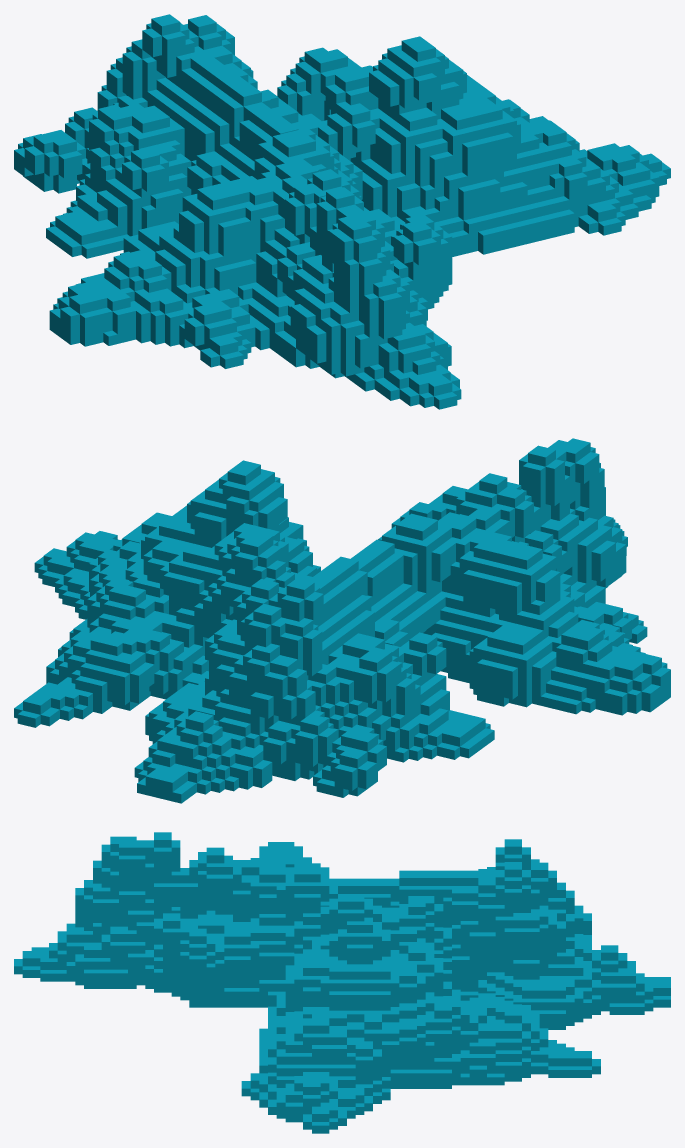
File: IceBerries-2.obj
The picture shows the model from 3 angles, top to bottom: view 1: azimuth 30°, elevation 25°; view 2: azimuth 150°, elevation 25°; view 3: azimuth 270°, elevation 25°; orthographic projection. The views are drawn at different scales.
Bounding box in the file's own units: 6.8 × 1.8 × 7.5.
1 material, 1 textured.
